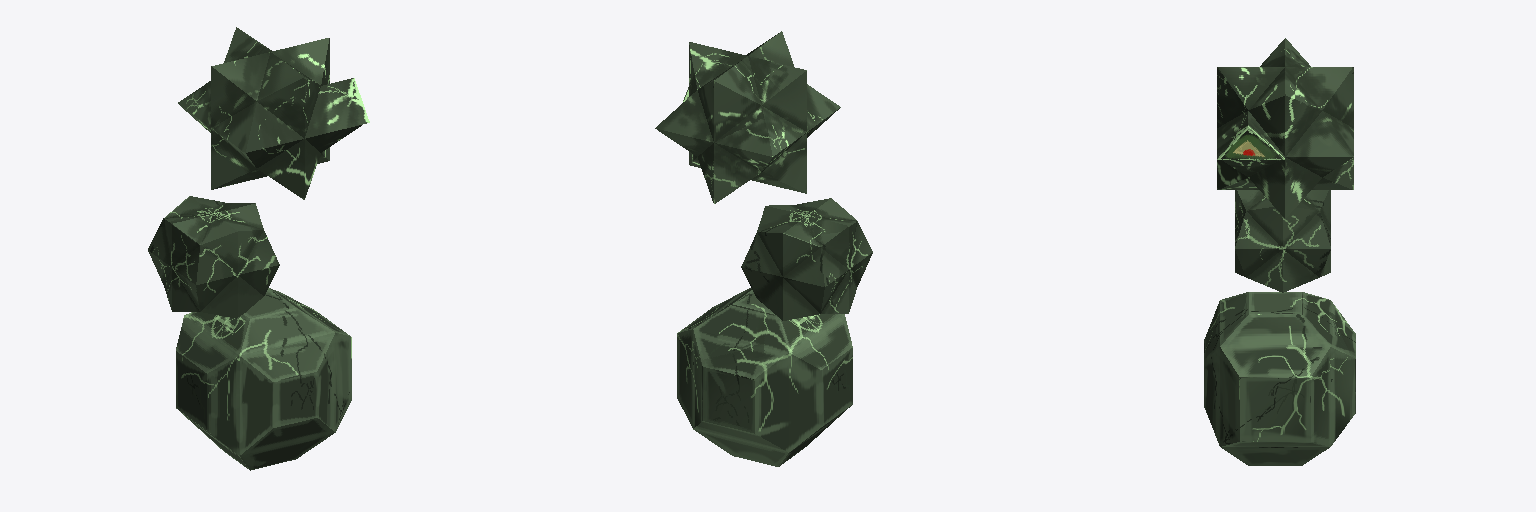
The picture shows the model from 3 angles: view 1: azimuth 30°, elevation 25°; view 2: azimuth 150°, elevation 25°; view 3: azimuth 270°, elevation 25°; orthographic projection.
Visible parts, largest first — view 1: Cube; view 2: Cube; view 3: Cube.
Part boxes in pixels (bbox=[...]): Cube: bbox=[148, 27, 369, 470]; Cube: bbox=[655, 31, 872, 466]; Cube: bbox=[1204, 38, 1355, 465].
Bounding box in the file's own units: 3.45 × 7.89 × 2.74.
Materials: 1 (1 with a texture image).